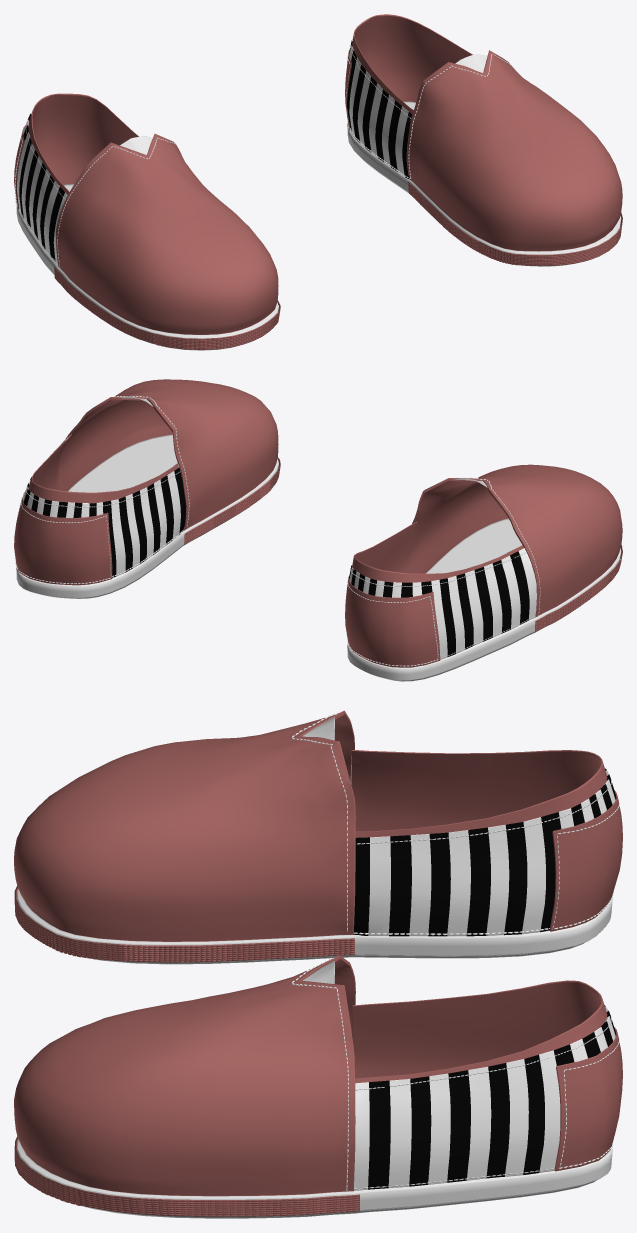
The model's file is uploads_files_2451163_shoe.fbx.
3 views of the same model, one above another, from view 1: azimuth 30°, elevation 25°; view 2: azimuth 150°, elevation 25°; view 3: azimuth 270°, elevation 25° (orthographic). The views are drawn at different scales.
Visible parts, largest first — view 1: shoe, shoe.001; view 2: shoe.001, shoe; view 3: shoe, shoe.001.
Part boxes in pixels (x1,y1,x2,y2): shoe: (345,14,622,266); shoe.001: (14,93,280,350); shoe.001: (345,464,622,681); shoe: (14,379,280,598); shoe: (14,955,622,1218); shoe.001: (14,710,622,964).
Size of what is drawn, in the model's own units: 34.61 by 8.78 by 24.65.
